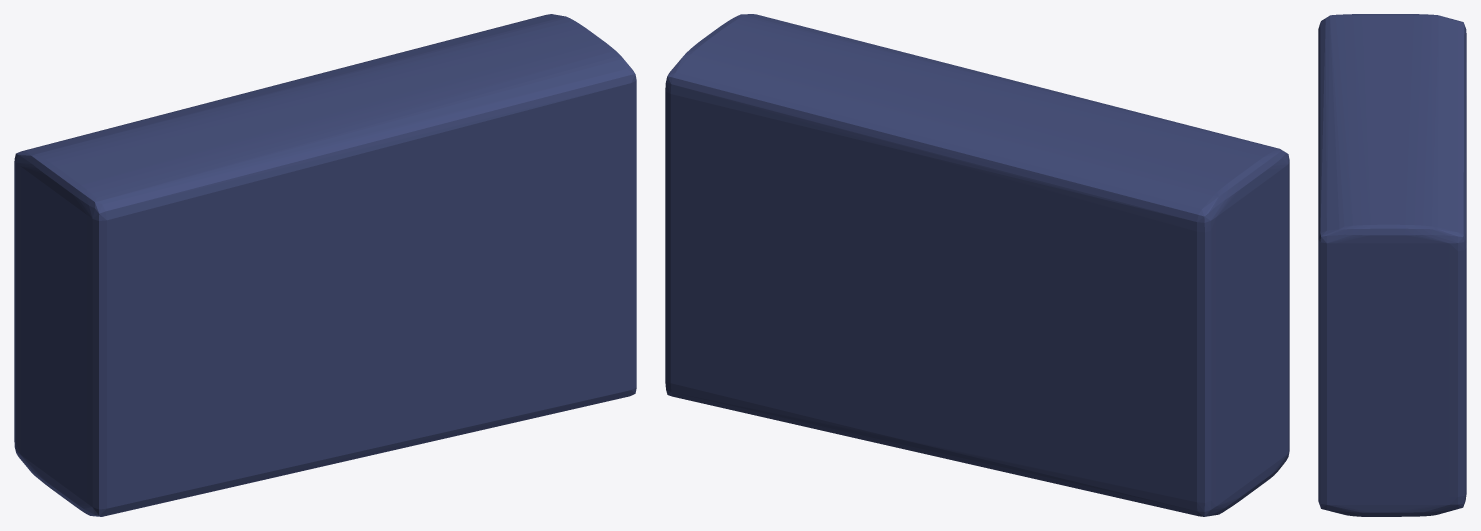
The model's file is left_elbow_link_part_16.obj.
3 renders of one model, left to right at view 1: azimuth 30°, elevation 25°; view 2: azimuth 150°, elevation 25°; view 3: azimuth 270°, elevation 25°, orthographic. The views are drawn at different scales.
Bounding box in the file's own units: 0.0905 × 0.0544 × 0.0252.
